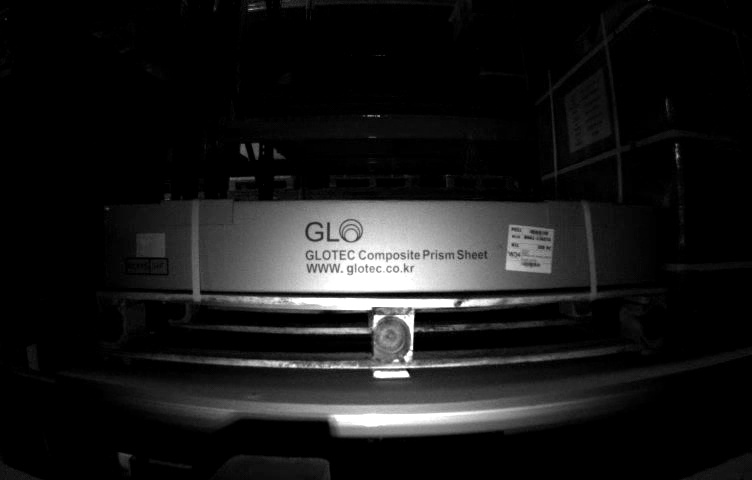True Barcode: (506, 223, 553, 274)
